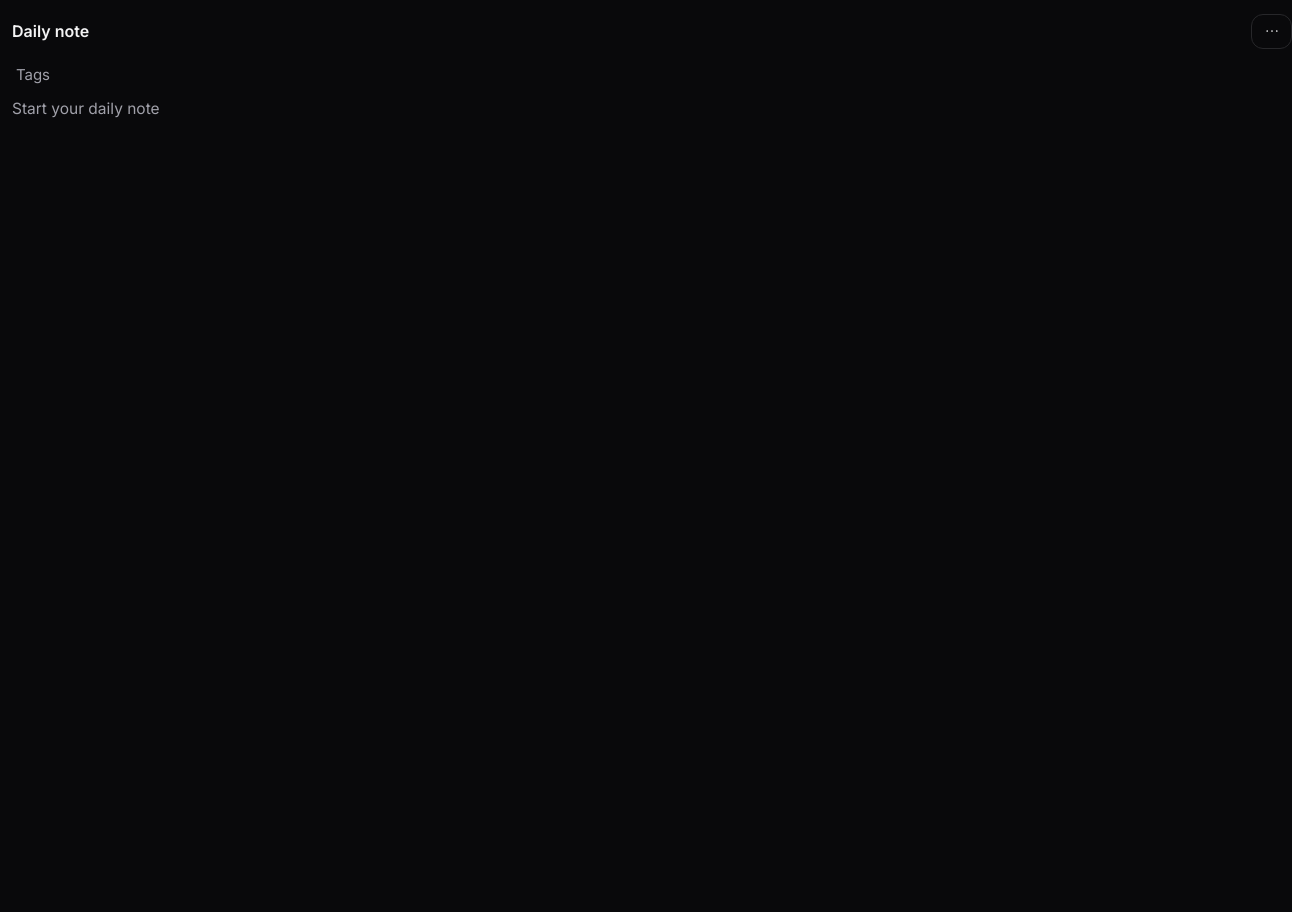
Test: DailyNoteSlot › the note's menu is the object page's: its actions, and delete goes to the trash
Later steps or results of the test are not shown.
What coordinates should you click on to do the following:
click the button named "More"
I would click on:
 (1272, 31)
Its box is [1256,16,1287,47].
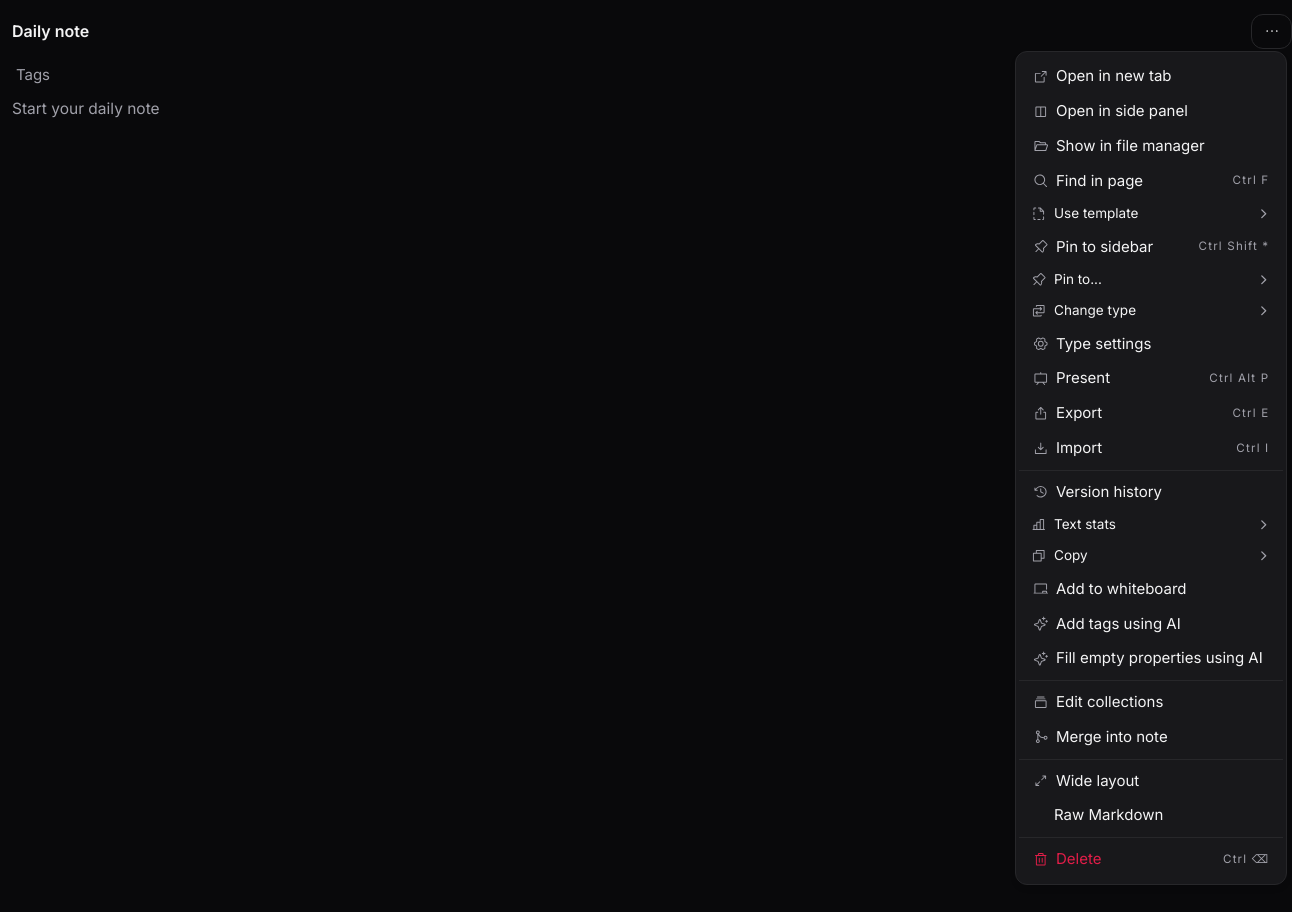
Expected: the menu item "Open in new tab" is shown, [1033,66,1172,85]
Expected: the menu item "Present Ctrl Alt P" is shown, [1033,368,1269,387]
Expected: the menu item "Export Ctrl E" is shown, [1033,403,1269,422]
